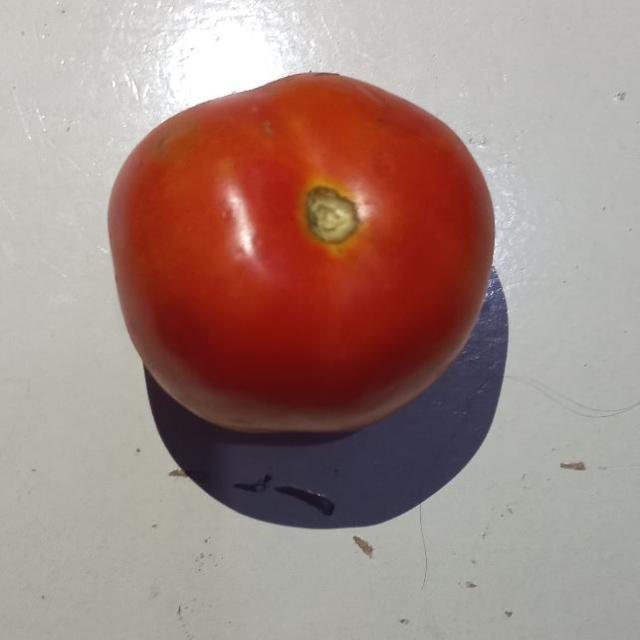ripe tomato: (68, 60, 500, 422)
